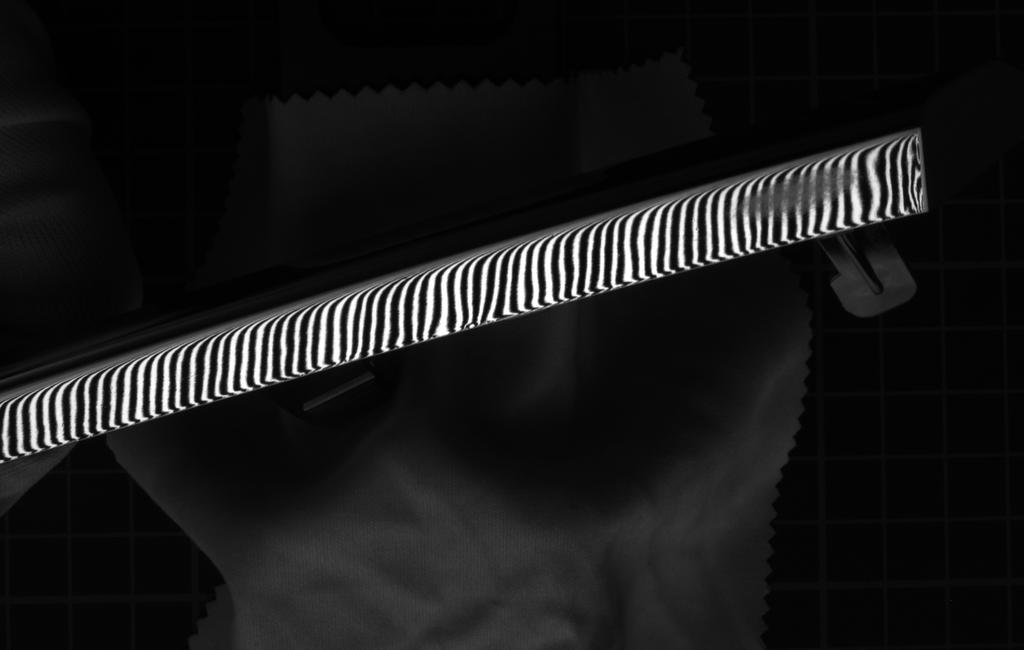Pitting: (731, 156, 865, 232)
